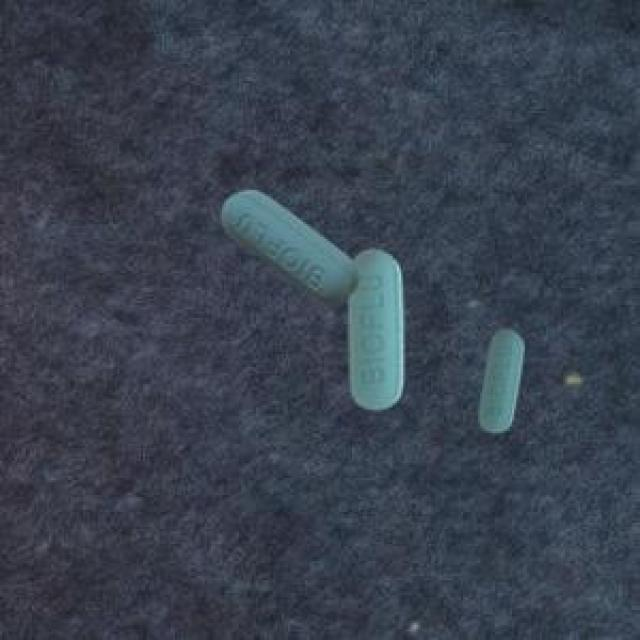Bioflu: (193, 157, 425, 432), (465, 304, 540, 457)
